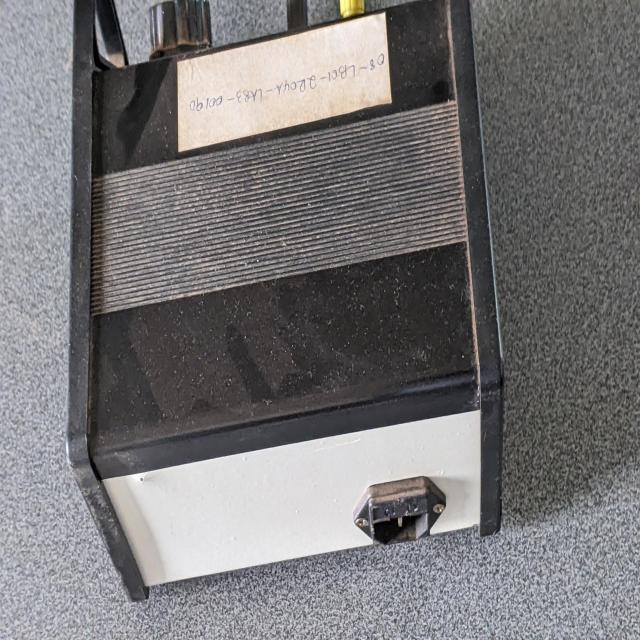AC-AD Regulated Power Supply: (65, 3, 519, 604)
